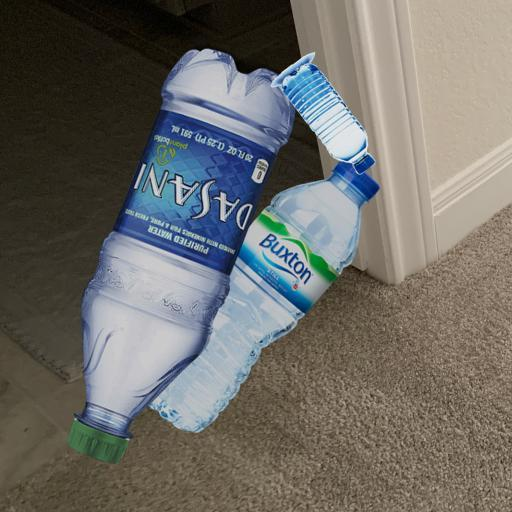bottle: (53, 44, 366, 485)
